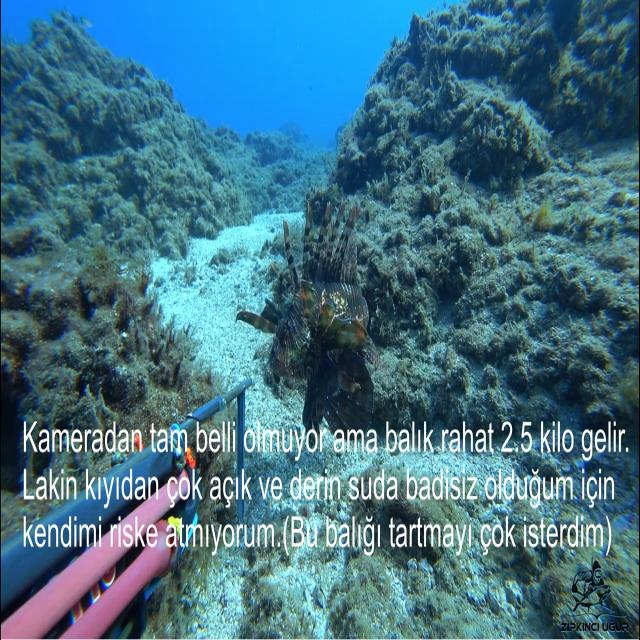Aslan Baligi: (211, 168, 433, 430)
